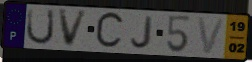5: (165, 14, 193, 55)
C: (94, 10, 126, 52)
J: (129, 15, 155, 50)
U: (25, 7, 57, 46)
V: (56, 9, 90, 49), (196, 15, 228, 55)
